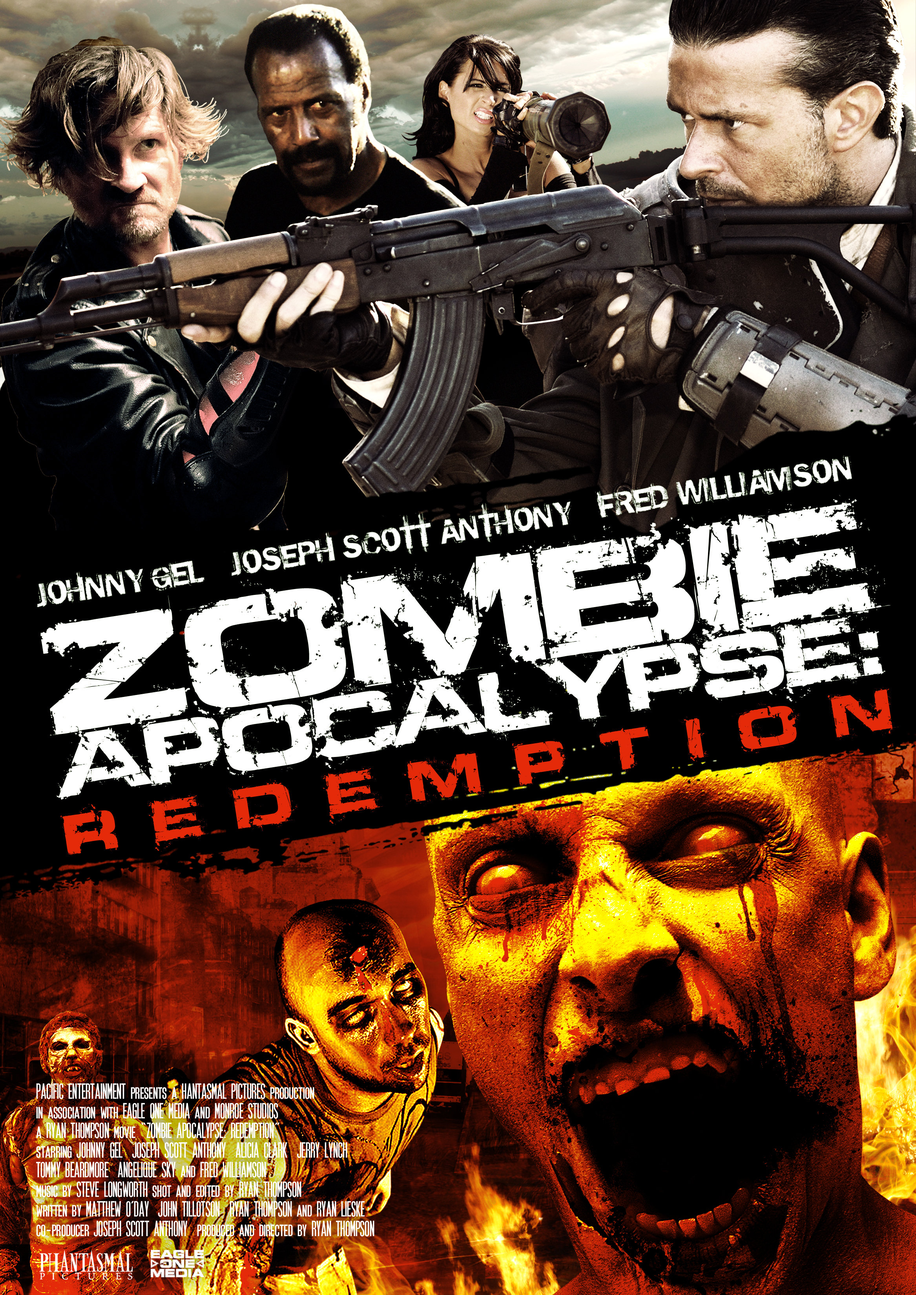-: (29, 36, 200, 251), (268, 905, 445, 1097), (235, 10, 373, 194)
